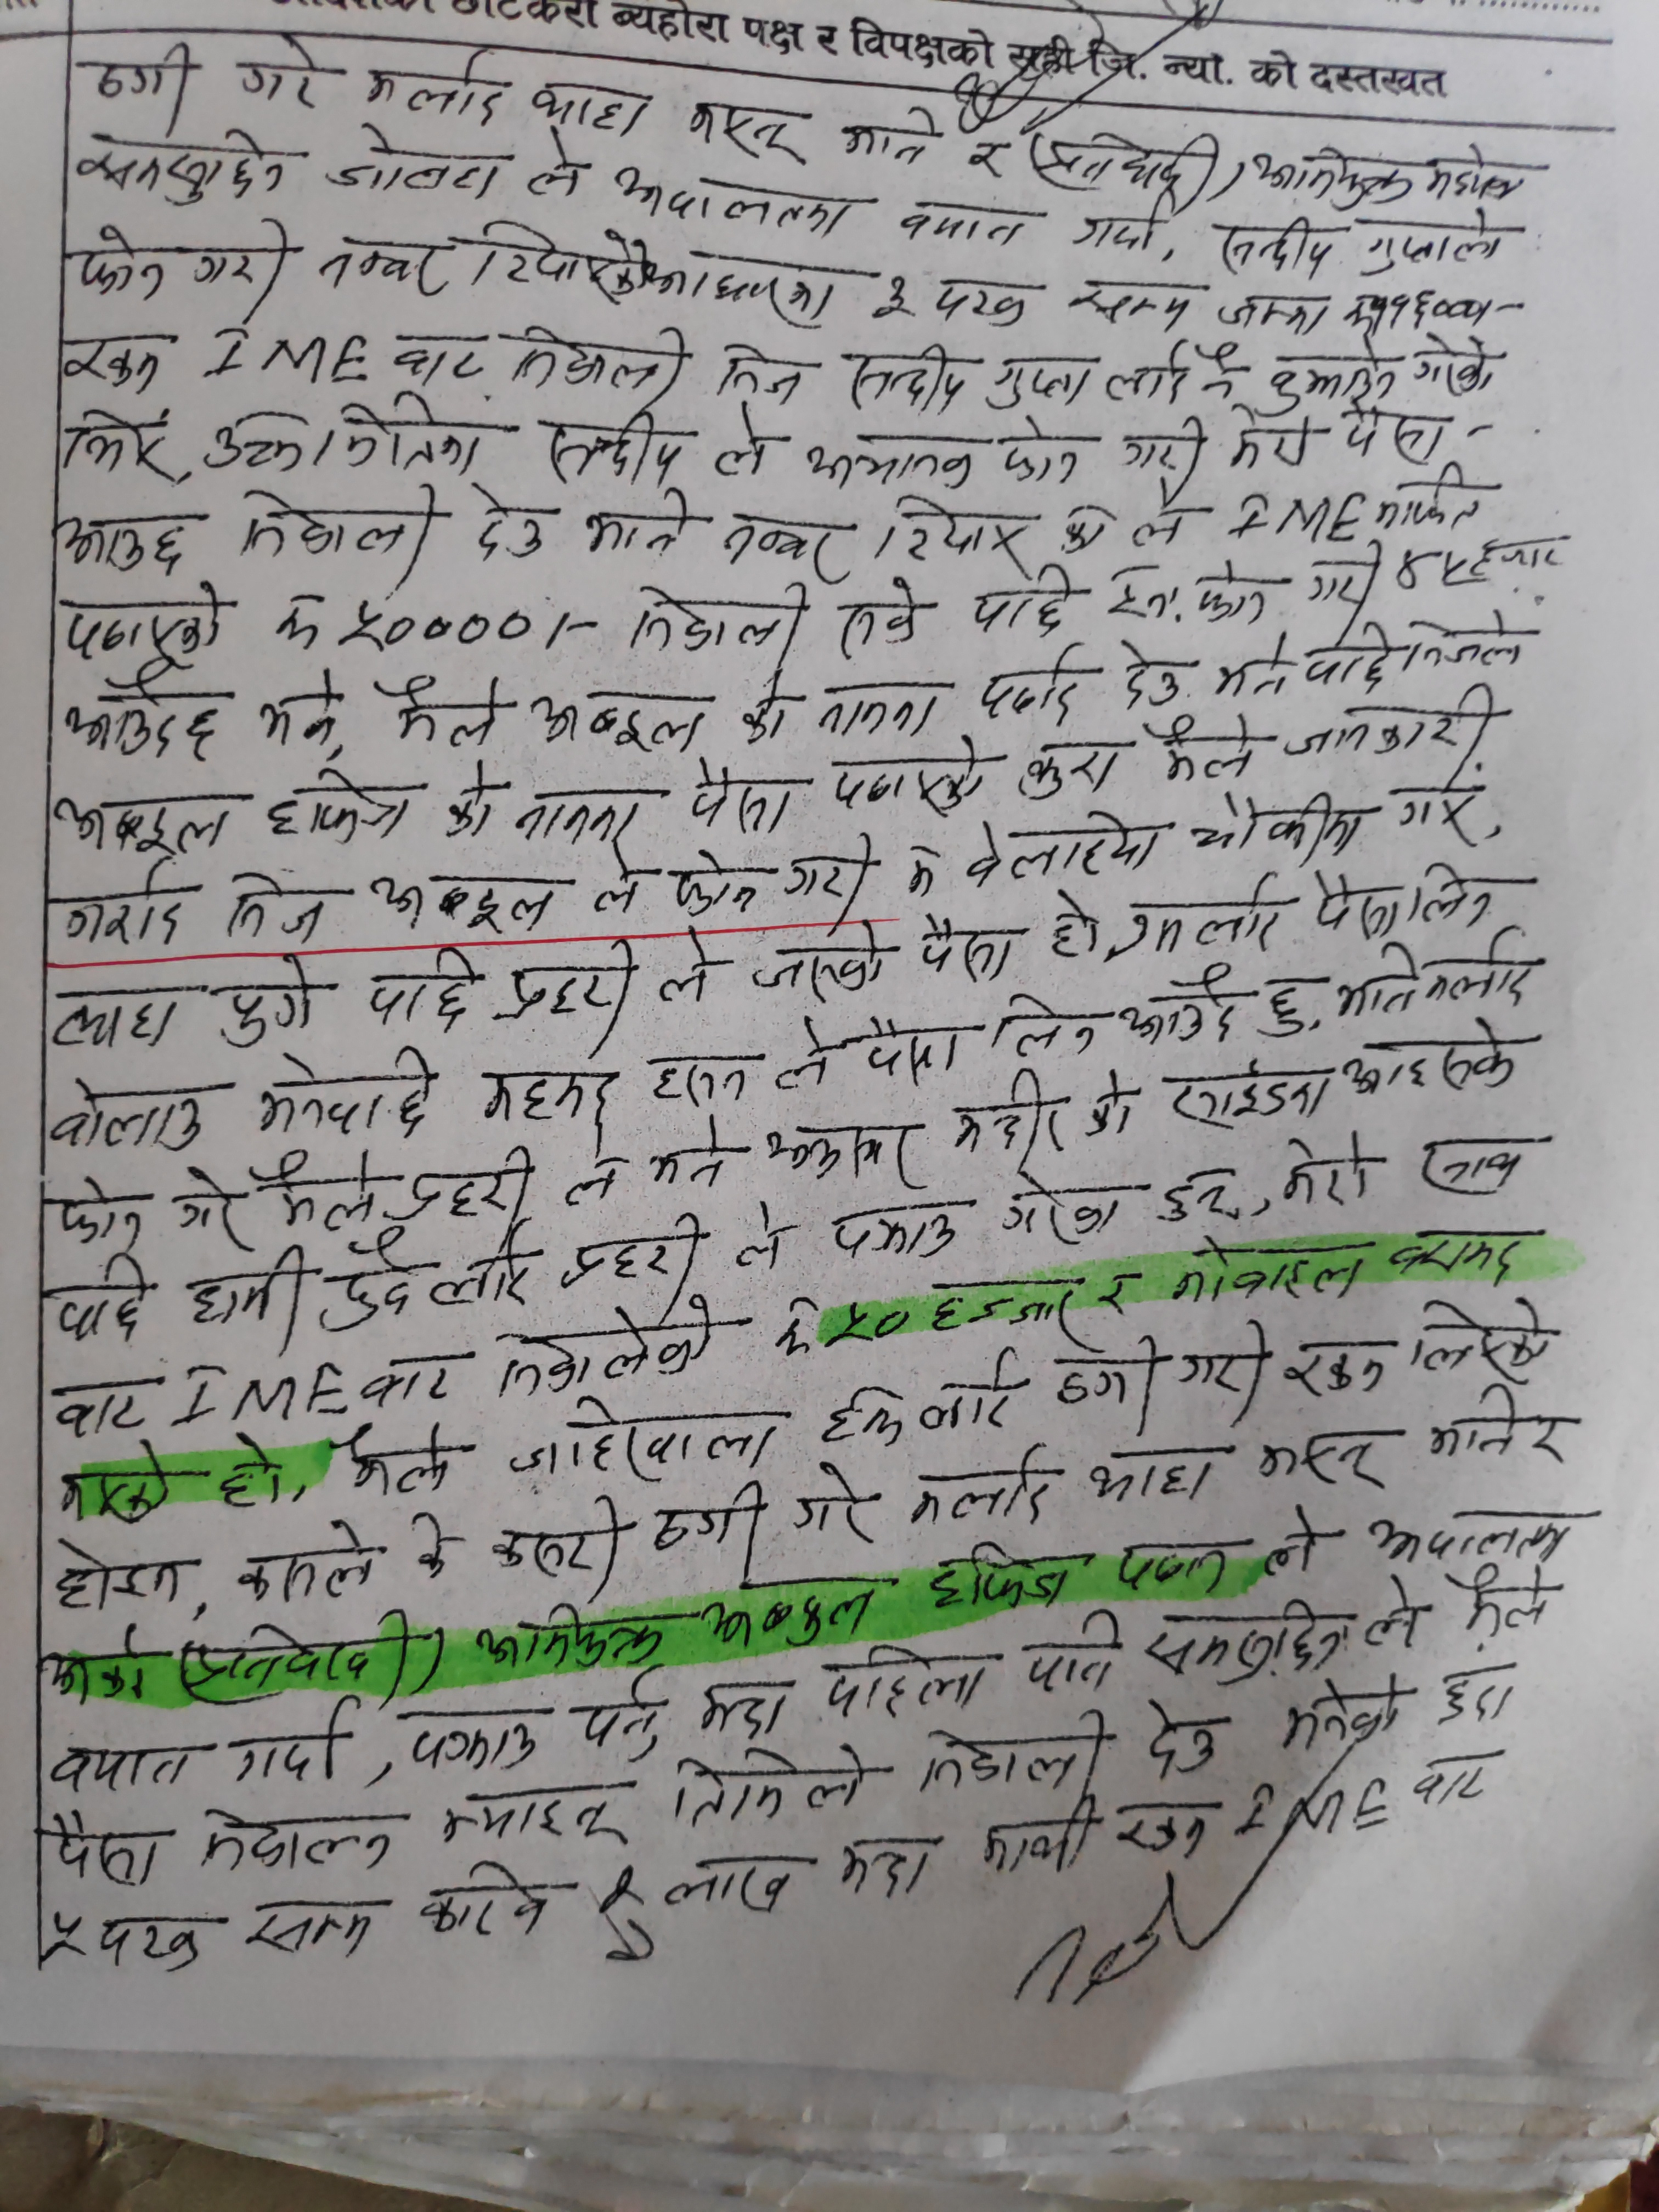text: (500, 1397, 779, 1480), (493, 1296, 713, 1397), (186, 1608, 420, 1693), (1281, 683, 1500, 768), (73, 120, 289, 206), (610, 165, 861, 239), (272, 585, 538, 653), (1141, 1595, 1349, 1683), (647, 246, 845, 334), (242, 479, 439, 568), (63, 667, 239, 766), (917, 1709, 1108, 1797), (962, 806, 1169, 887), (1110, 869, 1286, 963), (254, 1050, 436, 1137), (471, 218, 641, 310), (321, 122, 507, 206), (315, 387, 481, 479), (674, 1747, 868, 1825), (1335, 1015, 1520, 1097), (432, 1778, 633, 1853), (1166, 1231, 1370, 1305), (1185, 789, 1368, 869), (631, 578, 809, 660), (904, 1439, 1058, 1533), (511, 320, 687, 401), (366, 866, 563, 937), (472, 1601, 669, 1672), (197, 1803, 394, 1874), (828, 735, 988, 822), (1406, 1291, 1556, 1383), (483, 1491, 620, 1588), (63, 578, 227, 660), (1425, 1379, 1579, 1467), (505, 937, 640, 1036), (525, 681, 709, 752), (47, 1078, 211, 1158), (234, 1517, 380, 1606), (1155, 1052, 1333, 1125), (1361, 1503, 1568, 1566), (58, 853, 190, 951), (945, 1062, 1070, 1165), (415, 1855, 552, 1947), (816, 1642, 972, 1723), (1044, 125, 1225, 193), (875, 489, 1032, 568), (762, 1115, 929, 1188), (929, 1270, 1087, 1346), (185, 1244, 305, 1345), (648, 1477, 774, 1573), (261, 763, 411, 843), (1256, 141, 1419, 214), (230, 1698, 361, 1789), (800, 427, 978, 493), (697, 1581, 875, 1648), (359, 47, 509, 125), (924, 1538, 1080, 1613), (528, 409, 683, 484), (558, 1209, 702, 1287), (371, 669, 512, 749), (1115, 958, 1246, 1043), (1420, 925, 1546, 1014), (258, 1141, 378, 1233), (1359, 207, 1507, 282), (749, 927, 894, 1003), (52, 1536, 190, 1616), (52, 792, 232, 853), (396, 1144, 535, 1223), (978, 1792, 1098, 1881), (1260, 334, 1401, 409), (995, 1167, 1126, 1247), (1279, 1674, 1410, 1754), (917, 1343, 1032, 1433), (683, 94, 816, 172), (317, 232, 450, 310), (47, 1249, 146, 1353), (847, 338, 972, 420), (185, 214, 291, 310), (331, 1418, 460, 1496), (1398, 604, 1535, 678), (369, 946, 483, 1035), (239, 1895, 387, 1963), (974, 639, 1087, 728), (1049, 1332, 1164, 1420), (718, 509, 850, 583), (213, 958, 317, 1052), (476, 1066, 627, 1130), (399, 1703, 538, 1773), (1023, 1606, 1126, 1698), (56, 514, 199, 580), (58, 1442, 173, 1524), (49, 984, 190, 1050), (660, 1853, 805, 1918), (1385, 1228, 1542, 1287), (1253, 1425, 1392, 1491), (683, 752, 791, 838), (84, 40, 200, 118), (61, 406, 179, 482), (47, 1625, 153, 1710), (47, 1810, 162, 1888), (568, 1676, 669, 1764), (321, 1233, 416, 1325), (1143, 711, 1263, 784), (423, 1233, 537, 1310), (1216, 214, 1342, 282), (767, 1292, 915, 1350), (1274, 1125, 1377, 1207), (1110, 1533, 1234, 1601), (1448, 1559, 1554, 1637), (779, 833, 875, 918), (971, 561, 1077, 637), (227, 869, 329, 948), (812, 676, 939, 738), (45, 1743, 197, 1796), (1087, 1446, 1225, 1503), (253, 662, 340, 752), (789, 1458, 877, 1548), (1140, 1693, 1227, 1784), (1176, 1315, 1270, 1399), (1370, 465, 1488, 531), (202, 408, 312, 479), (511, 789, 648, 845), (1337, 397, 1446, 467), (828, 1205, 957, 1264), (235, 37, 335, 113), (1417, 1132, 1532, 1198), (580, 489, 692, 557), (94, 1909, 211, 1973), (861, 1012, 960, 1087), (917, 911, 1016, 986), (171, 1163, 256, 1251), (1070, 273, 1192, 334), (526, 77, 652, 136), (899, 197, 1028, 254), (1295, 622, 1396, 695), (833, 1834, 945, 1900), (1408, 859, 1502, 937), (995, 415, 1091, 491), (835, 570, 920, 655), (77, 218, 166, 300), (1331, 941, 1422, 1021), (1342, 280, 1490, 329), (1012, 738, 1131, 799), (1424, 139, 1535, 204), (990, 989, 1094, 1057), (669, 843, 762, 920), (986, 354, 1101, 415), (1119, 409, 1208, 488), (52, 1177, 152, 1247), (1216, 280, 1333, 340), (695, 1679, 796, 1747), (1105, 331, 1190, 411), (647, 1116, 734, 1195), (1279, 1338, 1394, 1397), (1223, 402, 1321, 472), (1309, 867, 1401, 941), (356, 1350, 471, 1407), (835, 105, 939, 167), (1108, 1797, 1213, 1860), (1391, 773, 1483, 843), (1211, 629, 1295, 705), (817, 1385, 911, 1453), (471, 479, 547, 561), (51, 1378, 155, 1437), (1432, 1662, 1521, 1731), (1408, 331, 1499, 399), (1302, 542, 1384, 617), (713, 340, 807, 404), (218, 1426, 286, 1515), (64, 338, 173, 394), (1072, 192, 1168, 254), (1194, 554, 1274, 627), (931, 273, 1032, 331), (645, 1052, 748, 1108), (1260, 1501, 1328, 1585), (1105, 637, 1182, 711), (1359, 1568, 1420, 1655), (1154, 1167, 1243, 1226), (392, 327, 486, 383), (1412, 1749, 1497, 1810), (1039, 887, 1105, 961), (586, 843, 648, 921), (769, 1012, 830, 1092), (732, 1197, 793, 1277), (437, 759, 497, 841), (1131, 477, 1195, 552), (1105, 564, 1180, 629), (734, 664, 789, 749), (653, 928, 716, 1003), (1466, 536, 1570, 578), (559, 1137, 620, 1209), (711, 409, 769, 484), (399, 1510, 455, 1585), (1391, 540, 1466, 596), (521, 139, 589, 199), (1084, 1068, 1140, 1137), (45, 1909, 96, 1977), (587, 1864, 650, 1918), (1260, 975, 1309, 1042), (1061, 502, 1115, 559), (1094, 1270, 1148, 1327), (871, 266, 922, 327), (1192, 341, 1243, 399), (960, 129, 1016, 178), (899, 841, 946, 897)
